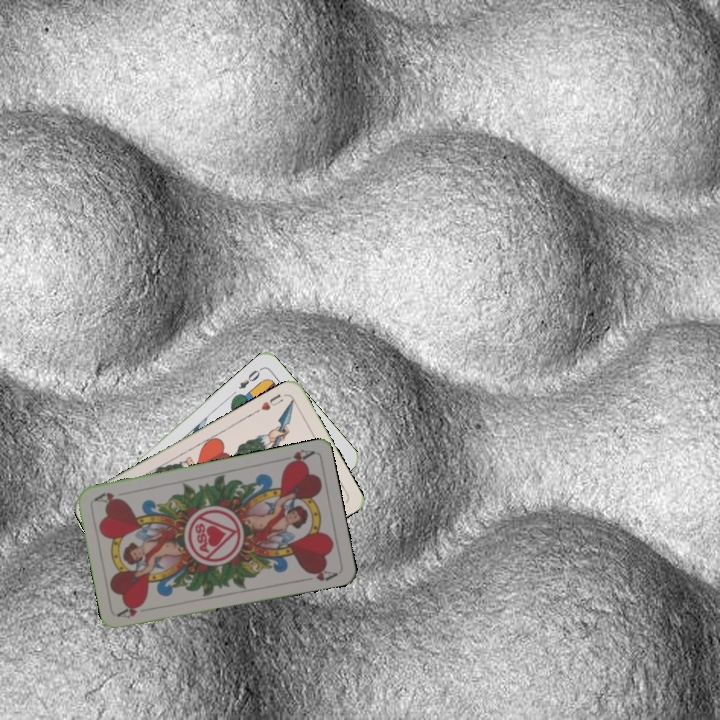EO: (235, 364, 265, 392)
HA: (276, 445, 316, 469), (115, 602, 144, 621)
HU: (251, 390, 285, 415)
